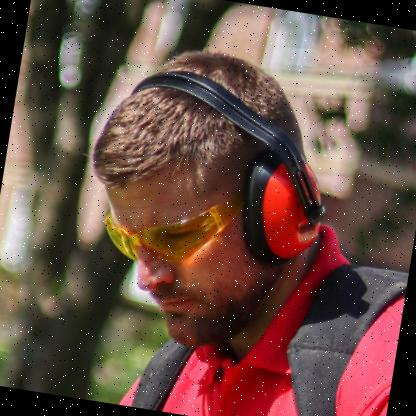oculos: (93, 185, 233, 280)
